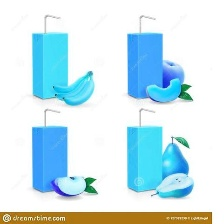carton: (27, 30, 73, 101), (29, 123, 73, 195), (122, 30, 166, 100), (123, 124, 166, 192)
drinking_straw: (38, 8, 62, 35), (39, 104, 63, 127), (135, 105, 160, 126), (134, 12, 157, 33)
